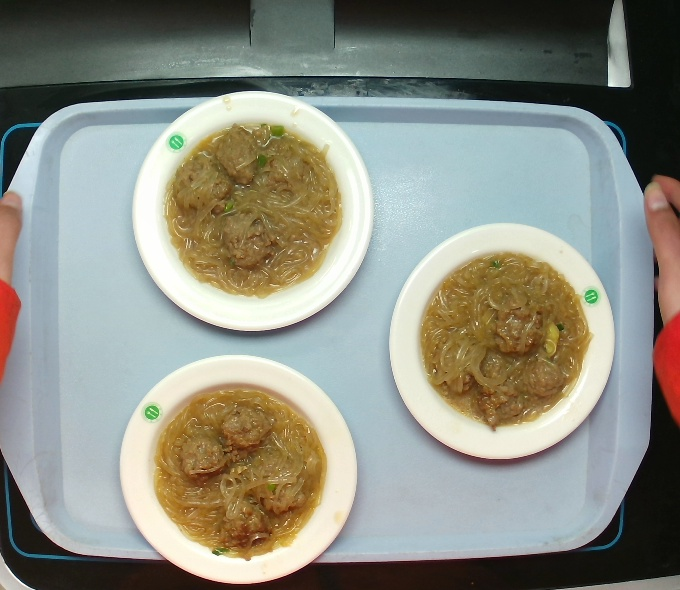wcq-FenSiNiuRouWan: (420, 246, 593, 434), (150, 376, 327, 559), (161, 120, 346, 291)
